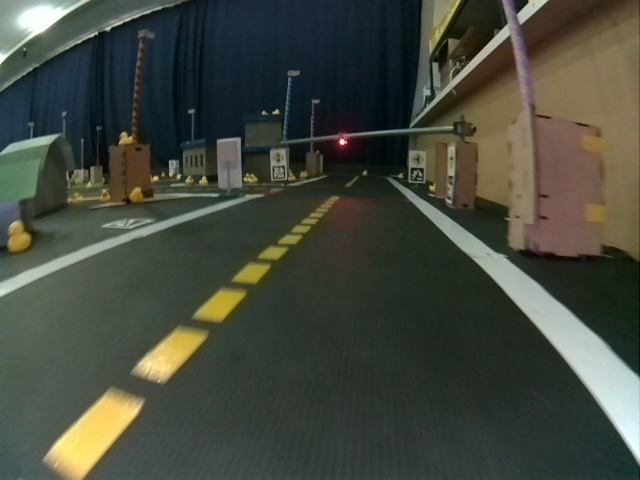Duckie: (8, 223, 32, 251), (129, 187, 143, 202), (119, 132, 133, 145), (199, 176, 209, 186), (72, 193, 82, 202), (101, 191, 110, 200), (361, 169, 370, 178), (184, 177, 194, 184), (302, 171, 308, 179), (397, 175, 406, 180), (249, 173, 253, 182)
Intersection sign: (410, 152, 425, 166)
QR code: (409, 167, 425, 182), (271, 165, 287, 180), (446, 176, 454, 204)
Signal sign: (270, 149, 285, 163)
Traffic light: (338, 137, 347, 145)
